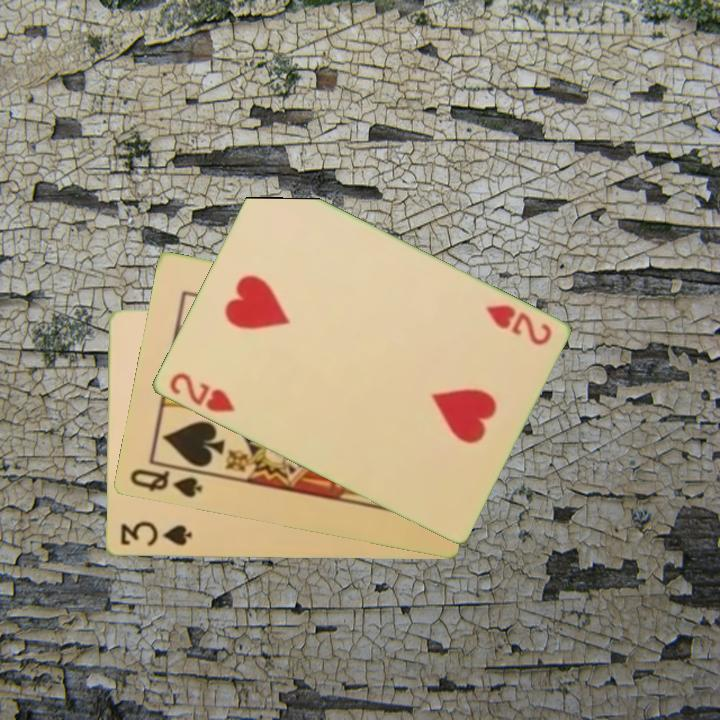2h: (481, 301, 555, 349), (165, 369, 238, 416)
3s: (117, 519, 194, 550)
Qs: (126, 466, 205, 501)
